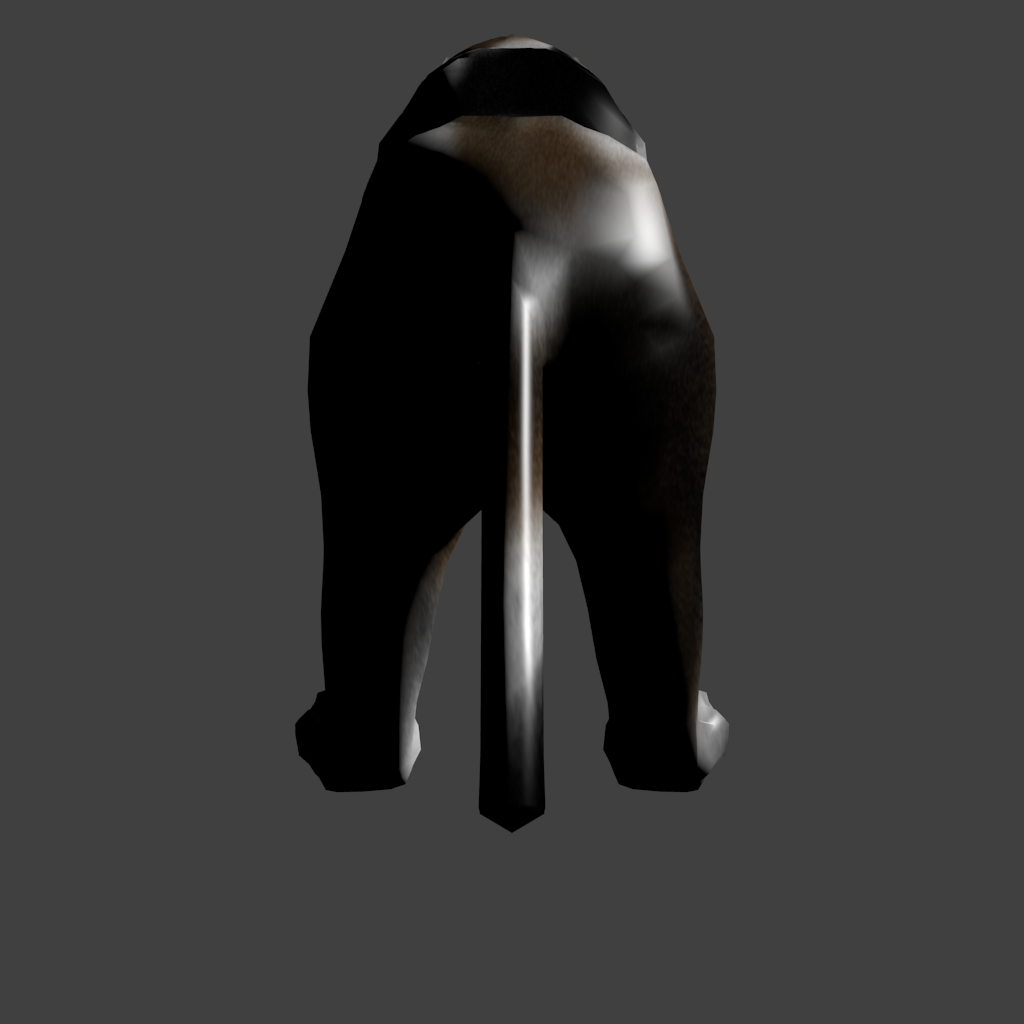Dog: (295, 34, 434, 799)
